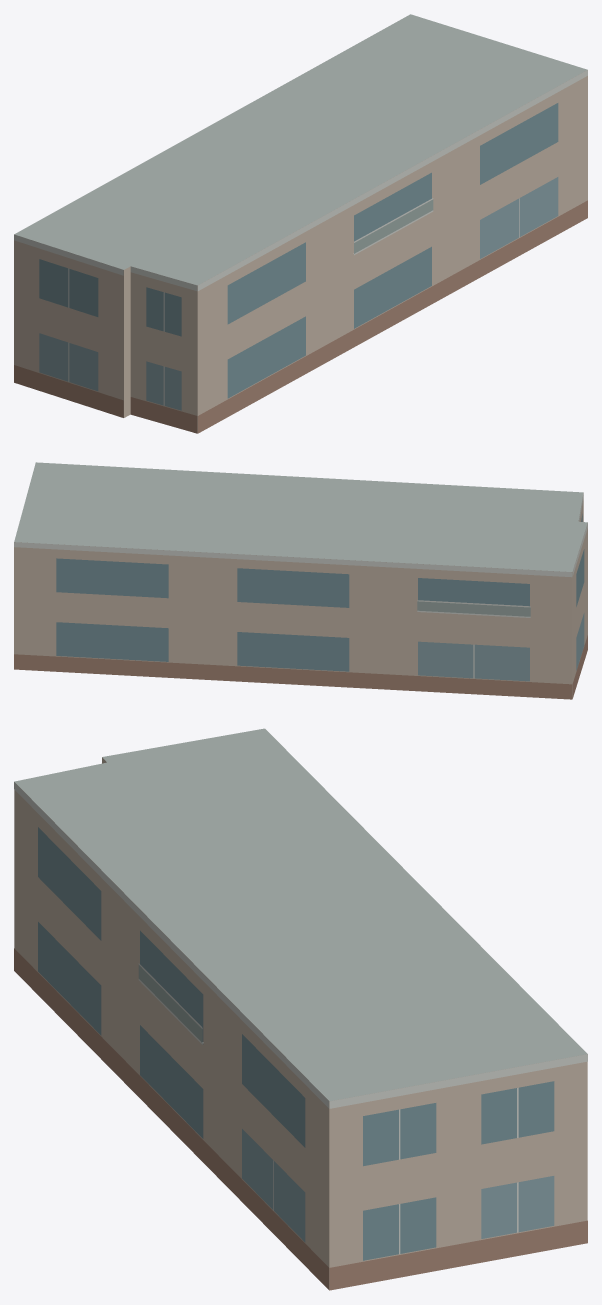
The model's file is survey-upis-32498082.glb.
3 views of the same model, one above another, from view 1: azimuth 30°, elevation 25°; view 2: azimuth 150°, elevation 25°; view 3: azimuth 270°, elevation 25° (orthographic). The views are drawn at different scales.
Parts seen in each view (by area): view 1: survey-upis-32498082.tmp; view 2: survey-upis-32498082.tmp; view 3: survey-upis-32498082.tmp.
Part boxes in pixels (box(x1,y1,x2,y2)): survey-upis-32498082.tmp: box(14, 14, 587, 433); survey-upis-32498082.tmp: box(14, 462, 587, 699); survey-upis-32498082.tmp: box(14, 728, 587, 1290).
Size of the model in its own units: 25.81 by 6.1 by 16.78.
